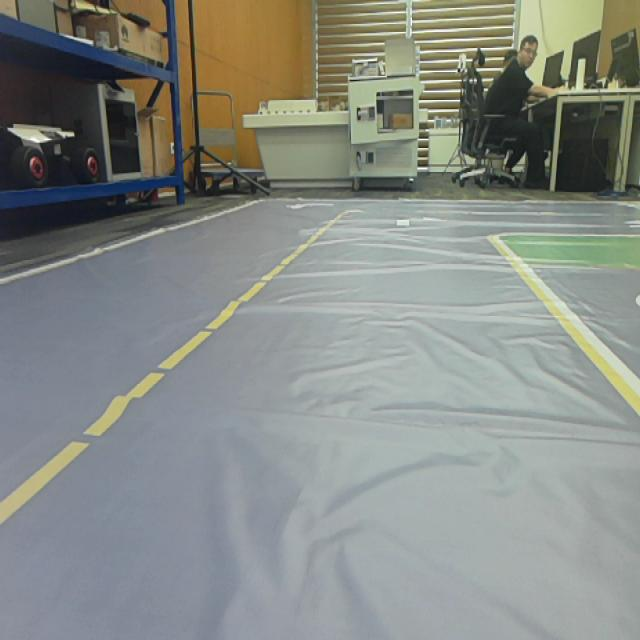left_lane: (0, 211, 344, 524)
right_lane: (487, 238, 640, 417)
